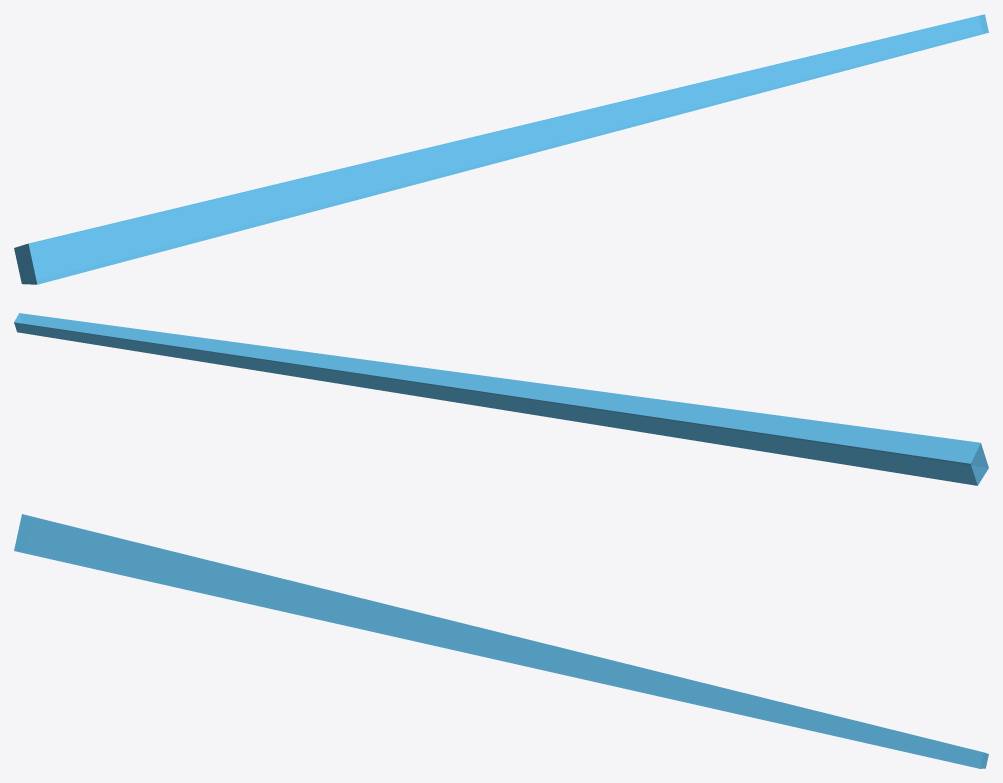
Rendered from Event_420604493_HErechit_18.fbx.
The picture shows the model from 3 angles, top to bottom: view 1: azimuth 30°, elevation 25°; view 2: azimuth 150°, elevation 25°; view 3: azimuth 330°, elevation 25°; orthographic projection. The views are drawn at different scales.
Parts seen in each view (by area): view 1: Model; view 2: Model; view 3: Model.
Part boxes in pixels (left/top/right/bottom): Model: left=14, top=14, right=988, bottom=284; Model: left=14, top=313, right=988, bottom=485; Model: left=14, top=514, right=988, bottom=768.
Size of the model in its own units: 12.51 by 0.9445 by 1.55.
